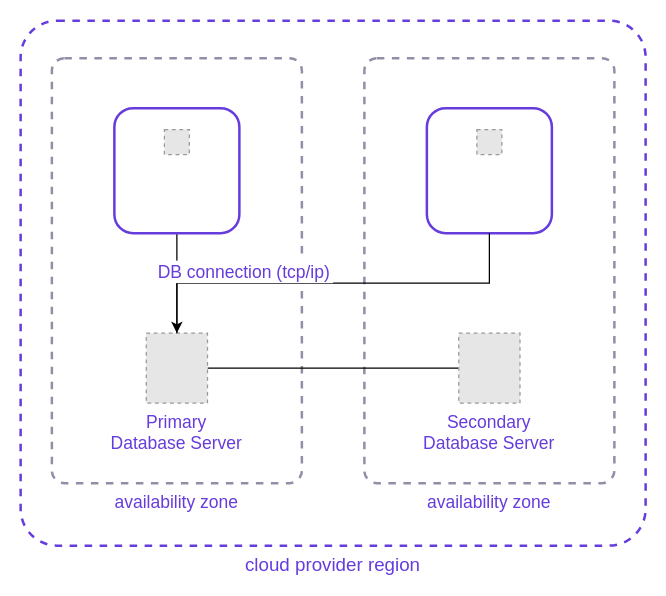
Image size: 666x596. Some labels were removed from this diagram. Grey dashed boxes stand in for pictures. Here are the shapes that lost their labels. From the top down, the box of each, then its label:
(112, 106, 240, 234): Central Server Node 1
(425, 106, 552, 234): Central Server Node 2
